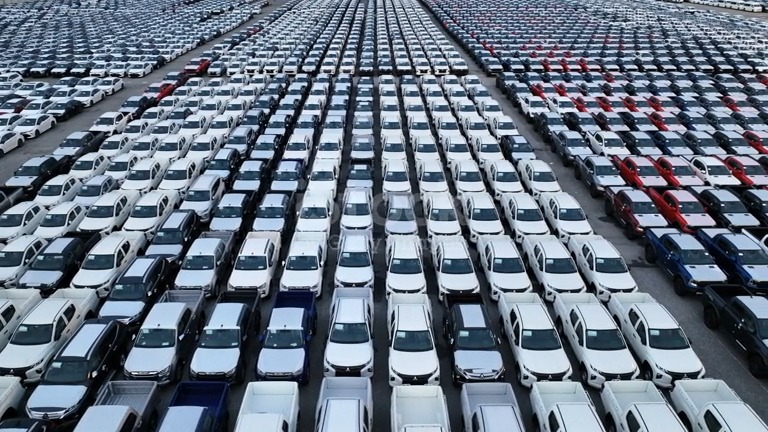car: (0, 281, 105, 375), (23, 323, 123, 414), (106, 286, 197, 381), (604, 292, 695, 386), (546, 293, 628, 387), (179, 290, 252, 382), (696, 284, 767, 378), (491, 293, 561, 381), (642, 228, 726, 296), (97, 256, 171, 331), (246, 302, 311, 382), (440, 299, 496, 384), (379, 297, 437, 379), (691, 228, 767, 290), (674, 378, 767, 428), (317, 289, 369, 376), (63, 230, 139, 287), (566, 234, 632, 295), (520, 235, 581, 300), (605, 385, 686, 432), (530, 382, 605, 432), (171, 233, 229, 296), (474, 236, 530, 300), (322, 228, 373, 297), (223, 231, 274, 297), (426, 233, 476, 300), (604, 190, 669, 240), (0, 227, 53, 288), (243, 379, 304, 431), (641, 188, 711, 233), (173, 379, 234, 430), (693, 187, 760, 230), (0, 198, 55, 249), (274, 234, 319, 296), (398, 378, 448, 432), (466, 388, 527, 432), (120, 189, 178, 233), (146, 212, 198, 261), (79, 189, 138, 232), (199, 187, 247, 239), (383, 236, 424, 296), (320, 381, 368, 432), (27, 172, 87, 212), (503, 192, 550, 241), (34, 200, 89, 240), (464, 192, 507, 240), (583, 155, 635, 194), (252, 193, 295, 237), (622, 156, 678, 189), (180, 174, 221, 218), (486, 155, 528, 197), (162, 157, 208, 194), (694, 157, 745, 186), (335, 190, 367, 236), (65, 151, 114, 181), (428, 191, 463, 233), (527, 162, 565, 200), (555, 126, 597, 160), (696, 404, 746, 431), (664, 157, 712, 185), (0, 128, 48, 156), (303, 158, 335, 197), (387, 187, 417, 228), (459, 161, 492, 198), (102, 153, 141, 181), (555, 111, 590, 142), (419, 159, 451, 192), (267, 160, 300, 192), (625, 129, 668, 153), (228, 160, 261, 191), (656, 129, 700, 152), (19, 113, 59, 138), (420, 160, 451, 191), (692, 130, 731, 153), (313, 128, 339, 162), (379, 160, 409, 189), (344, 160, 370, 193), (51, 99, 86, 121), (524, 94, 553, 119), (587, 113, 622, 132), (19, 113, 54, 131), (627, 113, 660, 130), (423, 169, 449, 189), (82, 89, 110, 107), (103, 78, 128, 96), (138, 60, 160, 76), (0, 153, 13, 170)
